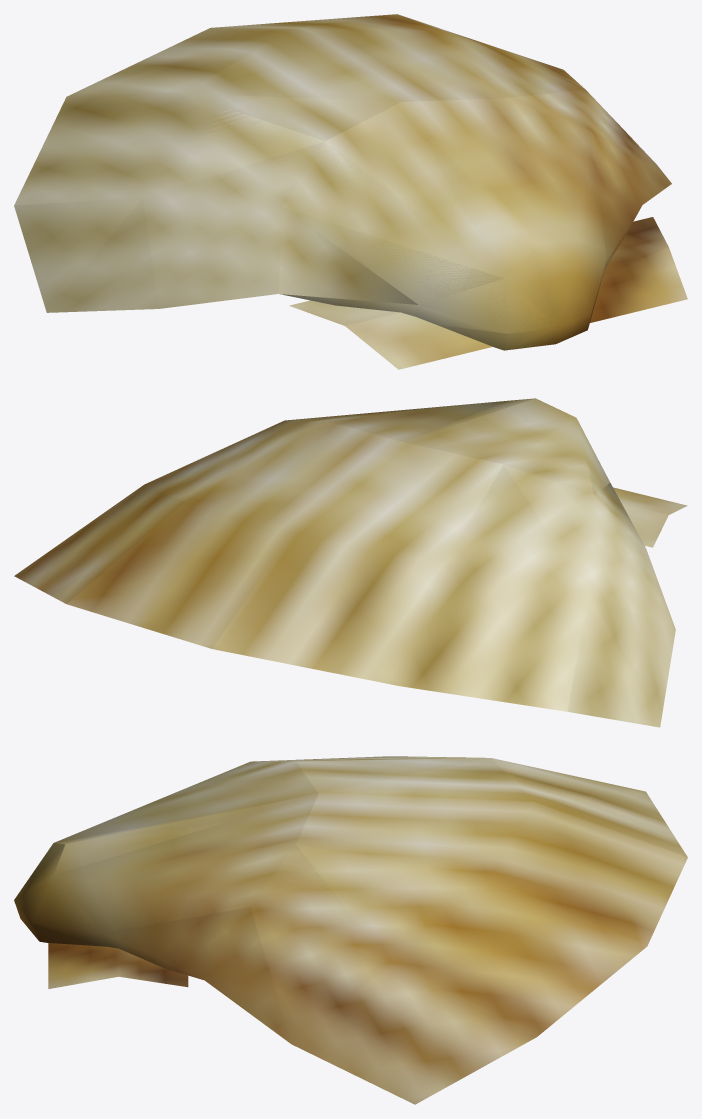
File: SMSH_Shell_12.FBX
3 views of the same model, one above another, from view 1: azimuth 30°, elevation 25°; view 2: azimuth 150°, elevation 25°; view 3: azimuth 270°, elevation 25° (orthographic). The views are drawn at different scales.
Parts seen in each view (by area): view 1: Ytlds_Shell_12; view 2: Ytlds_Shell_12; view 3: Ytlds_Shell_12.
Part boxes in pixels (<box>): Ytlds_Shell_12: <box>14,14,687,369</box>; Ytlds_Shell_12: <box>14,398,687,727</box>; Ytlds_Shell_12: <box>14,756,687,1104</box>.
Size of the model in its own units: 29.61 by 8.03 by 29.34.
